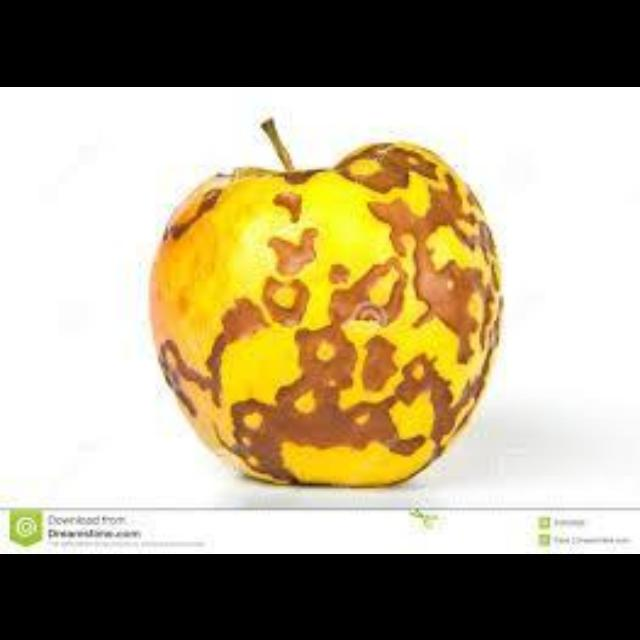apple: (148, 137, 501, 483)
scratch: (234, 173, 496, 483)
